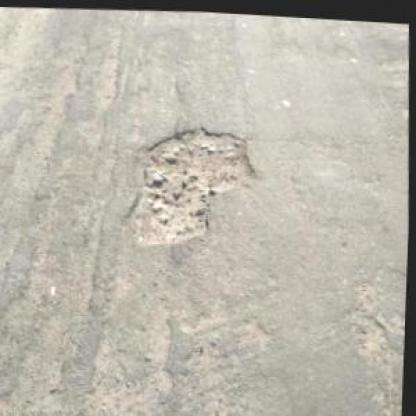pothole: (121, 116, 264, 254)
